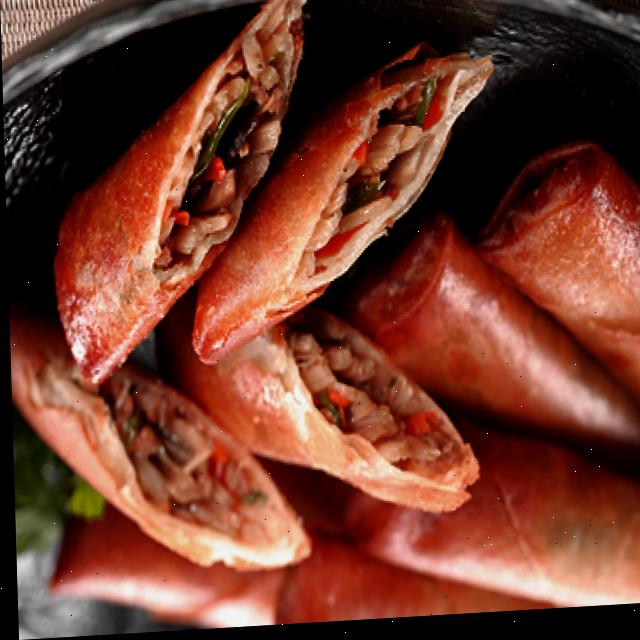鸡蛋料理: (43, 1, 640, 636)
